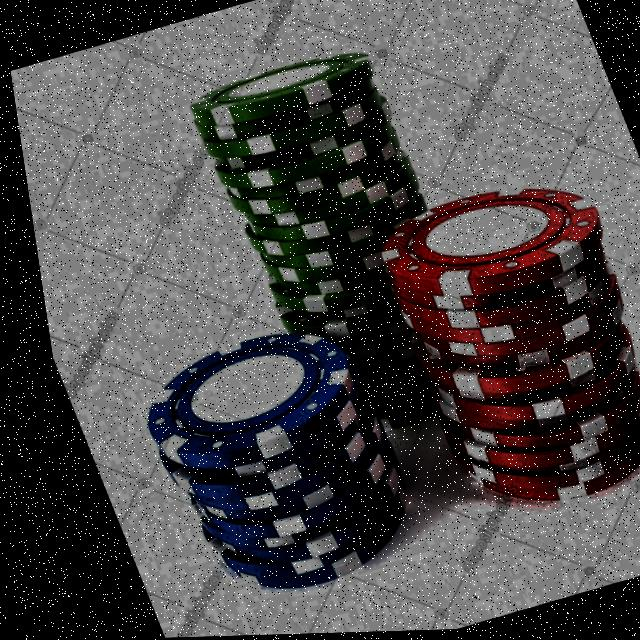Chip: (158, 30, 516, 464), (344, 156, 640, 535), (101, 307, 427, 620)
